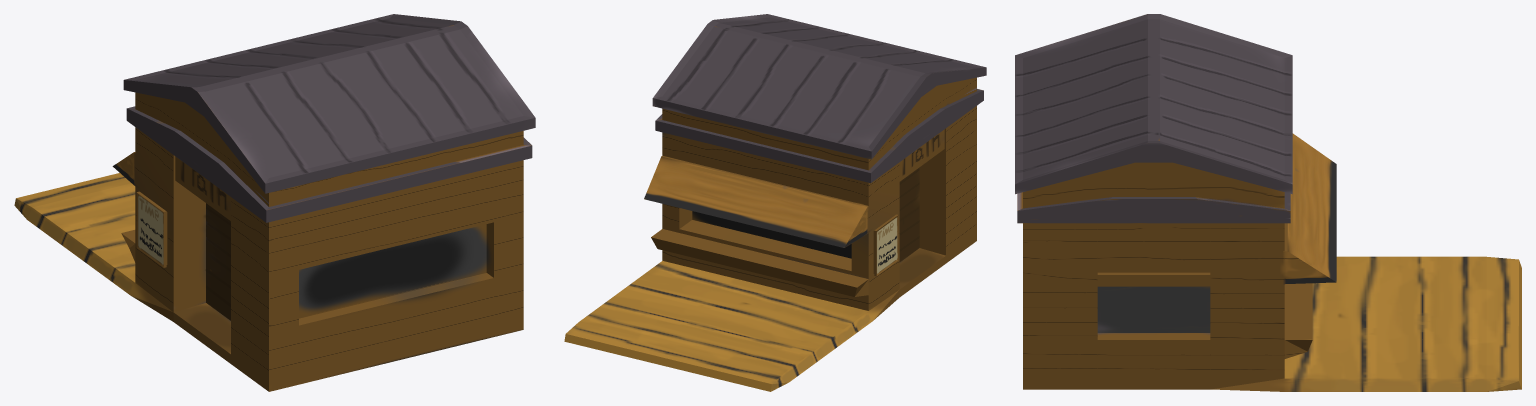
File: train stop.obj
The picture shows the model from 3 angles, left to right: view 1: azimuth 30°, elevation 25°; view 2: azimuth 150°, elevation 25°; view 3: azimuth 270°, elevation 25°; orthographic projection. The views are drawn at different scales.
Visible parts, largest first — view 1: Cube.028_Cube.000; view 2: Cube.028_Cube.000; view 3: Cube.028_Cube.000.
Boxes of the visible parts, x1,y1,x2,y2 form: Cube.028_Cube.000: [14, 14, 535, 391]; Cube.028_Cube.000: [564, 14, 986, 391]; Cube.028_Cube.000: [1015, 14, 1521, 391].
Size of the model in its own units: 8.04 by 7.25 by 13.33.
1 material, 1 textured.
